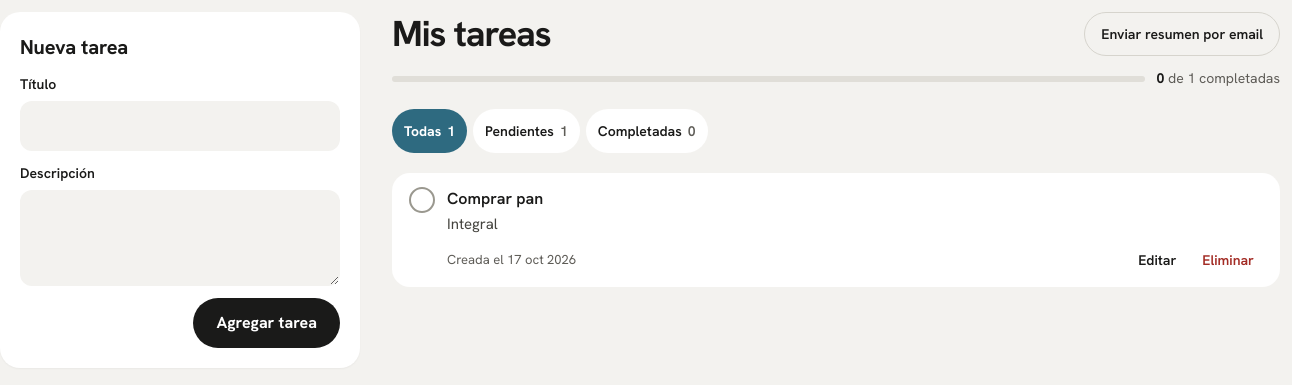
Scenario: Enviar resumen › asks to verify the email when the function rejects an unverified account
What coordinates should you click on to do the following:
click the button "Enviar resumen por email"
I would click on:
 (1182, 34)
Its box is [1084,12,1280,56].
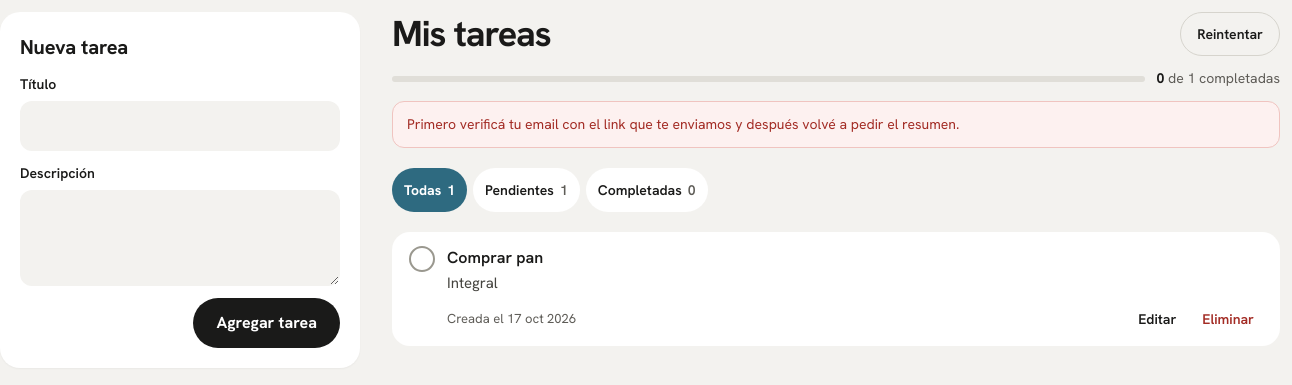
Expected: the message shows "Primero verificá tu email", [407,115,959,133]
